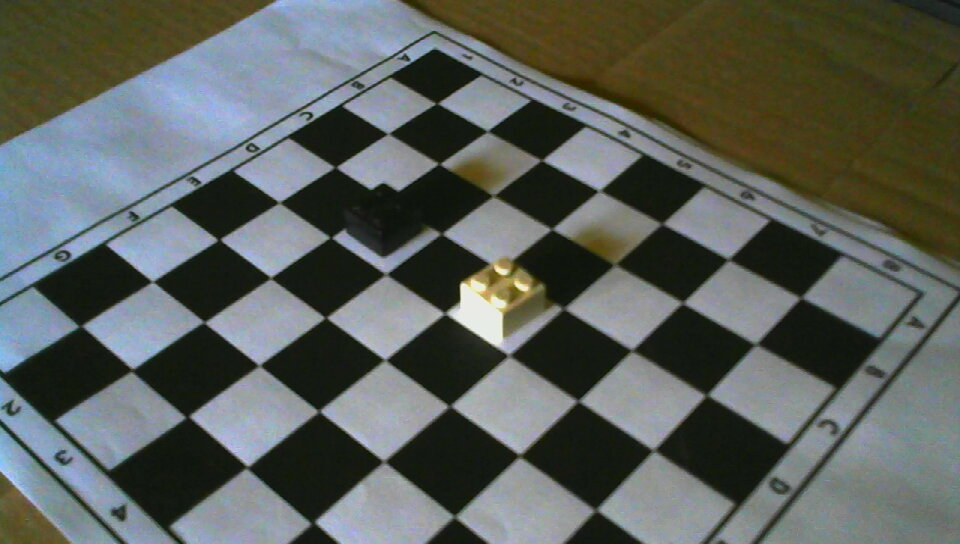bp: (344, 181, 427, 256)
wp: (459, 258, 546, 335)
